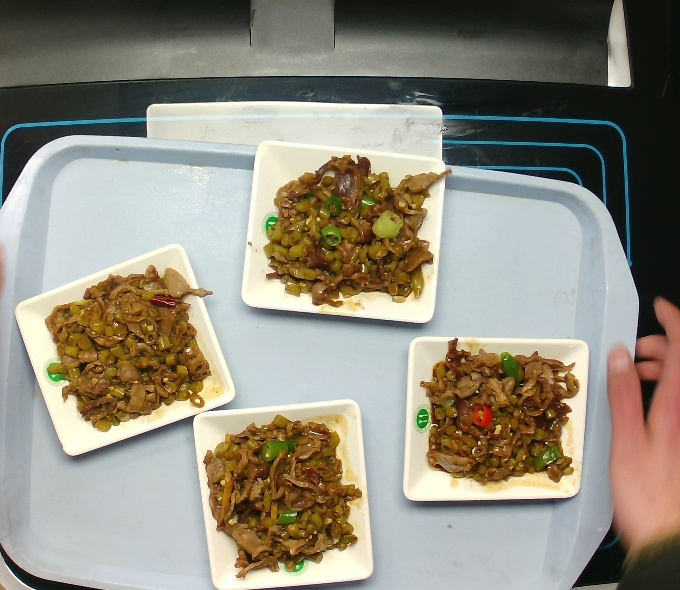wcq-JiZhen: (260, 149, 448, 319), (38, 262, 226, 432), (197, 409, 369, 580), (411, 334, 583, 489)
